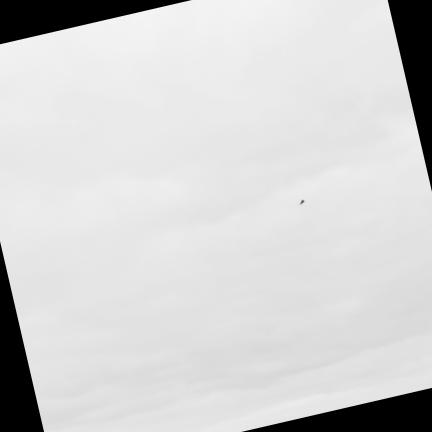Shahed: (299, 199, 305, 205)
